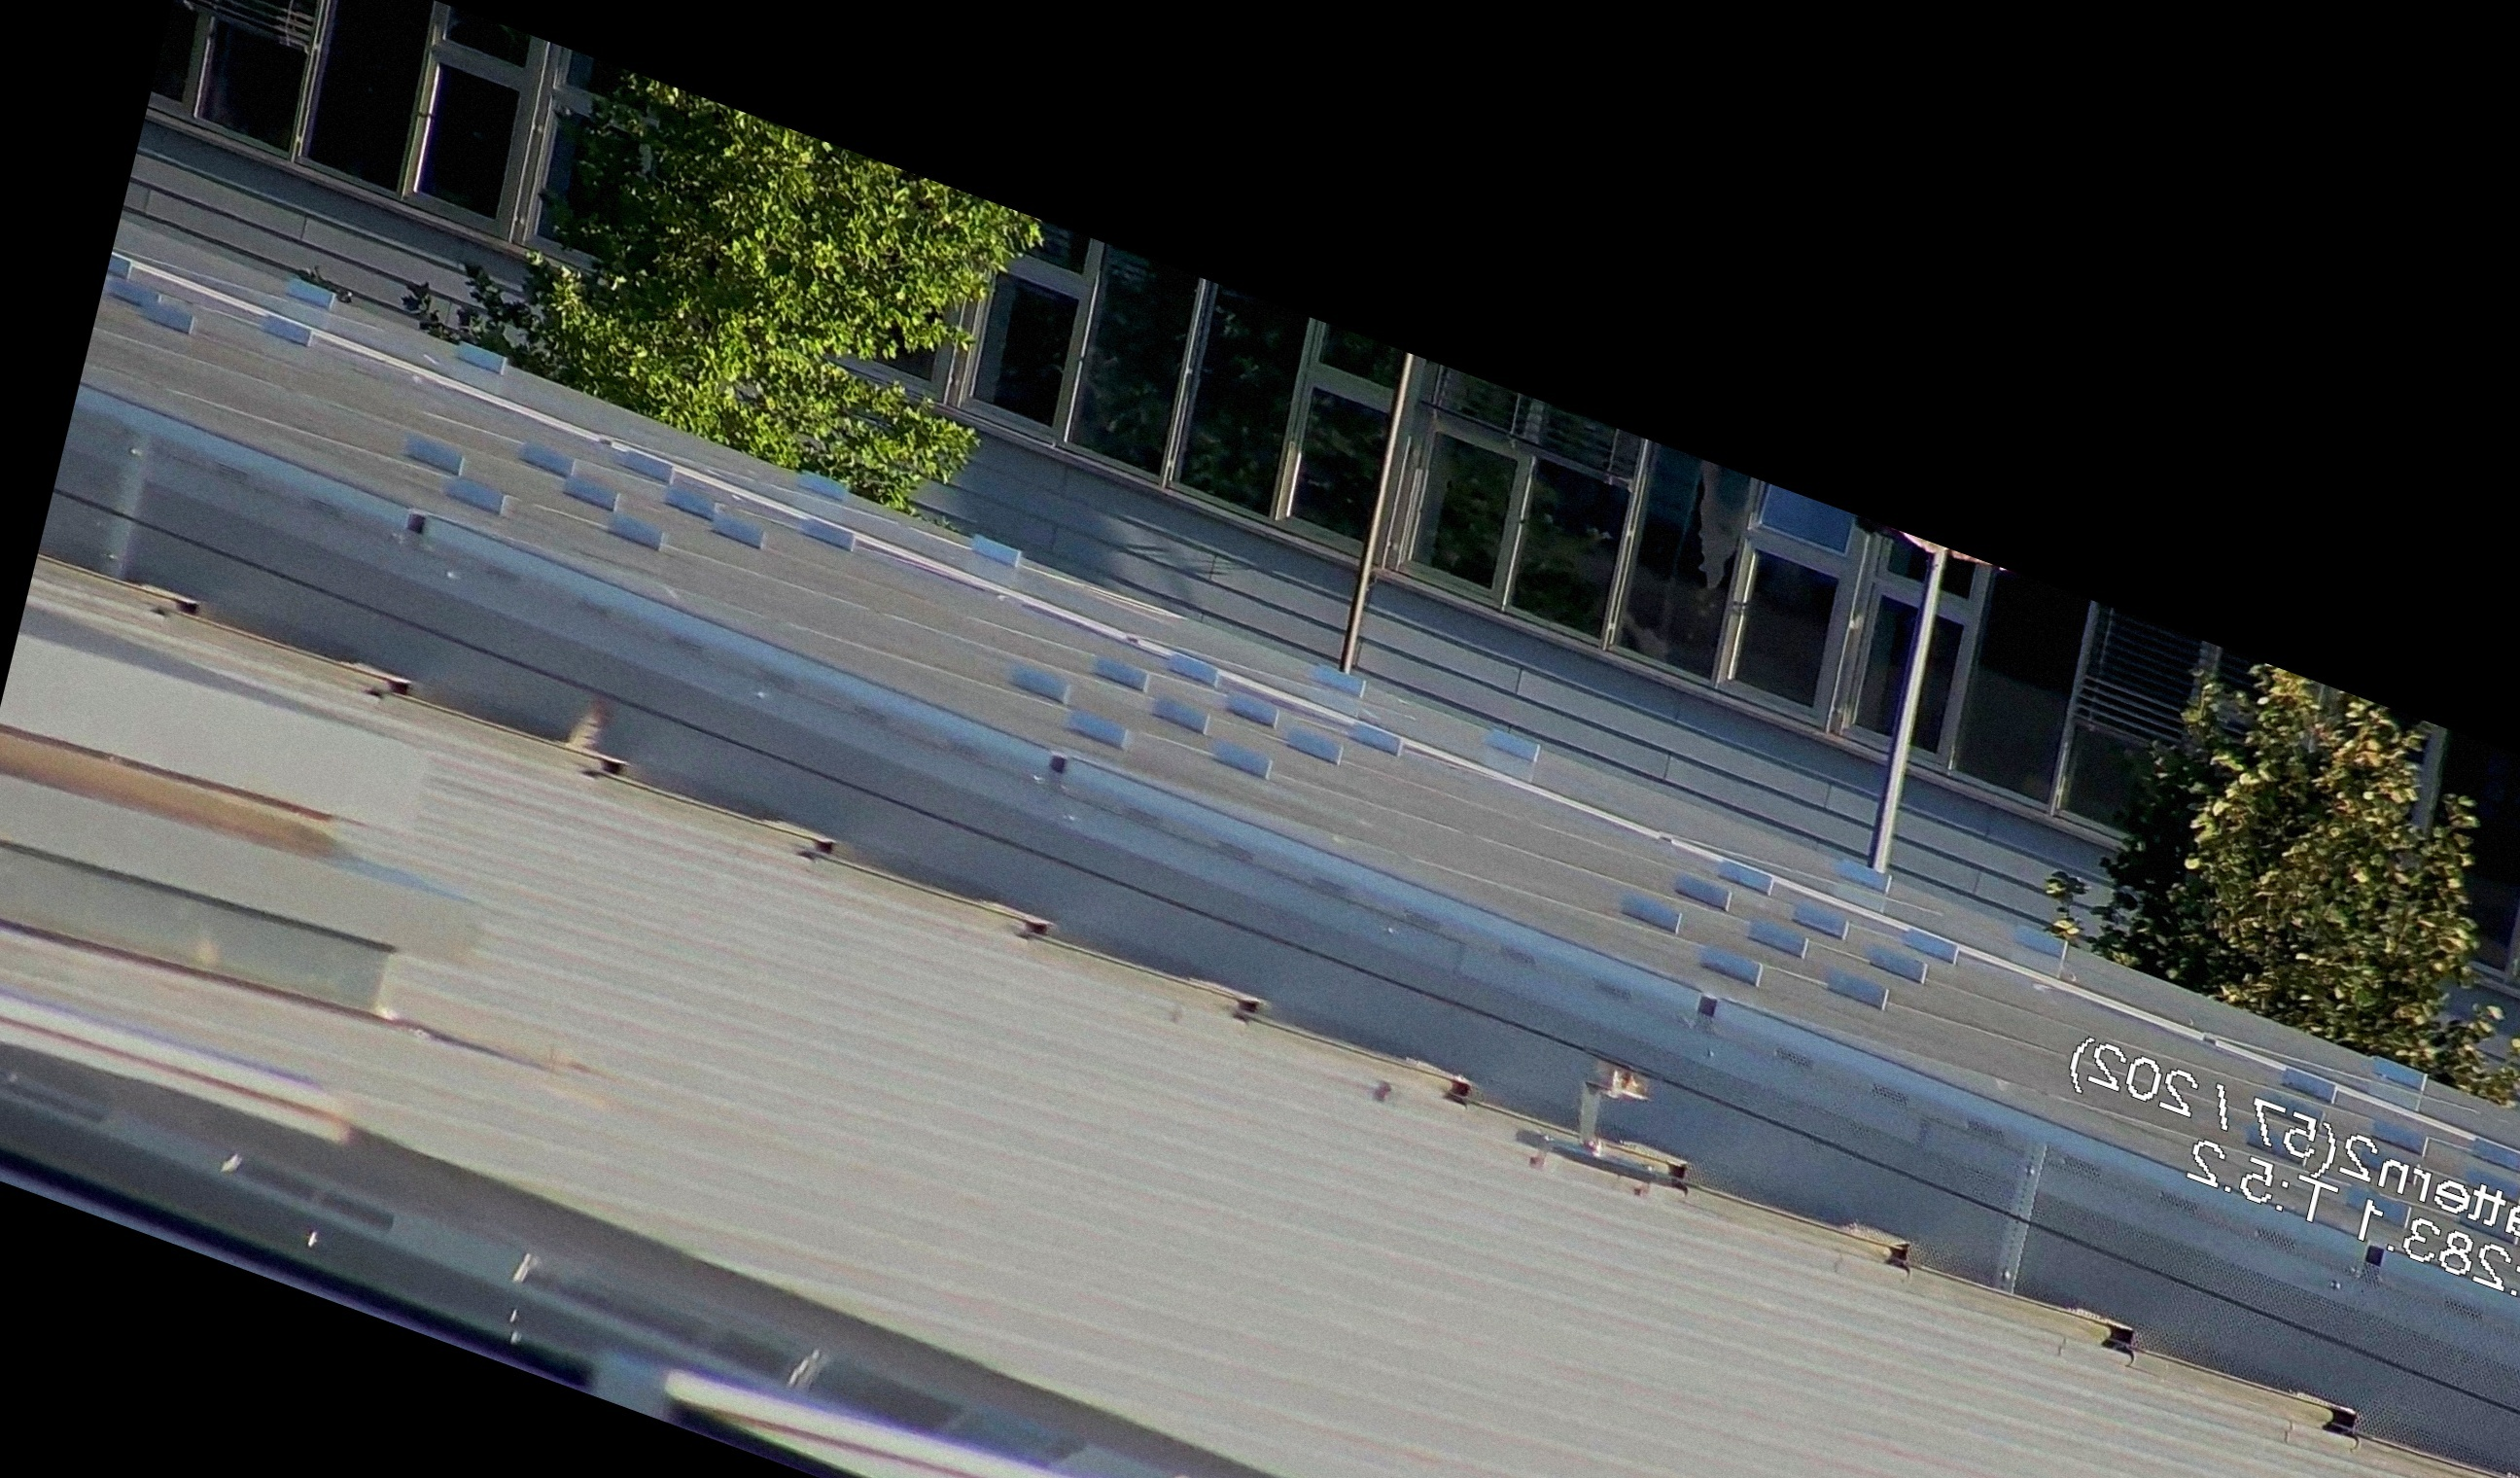Other: (545, 679, 633, 787)
